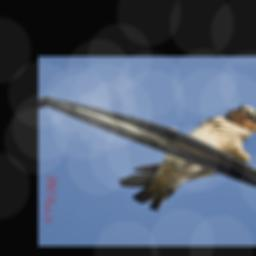Swallow: (115, 100, 256, 215)
